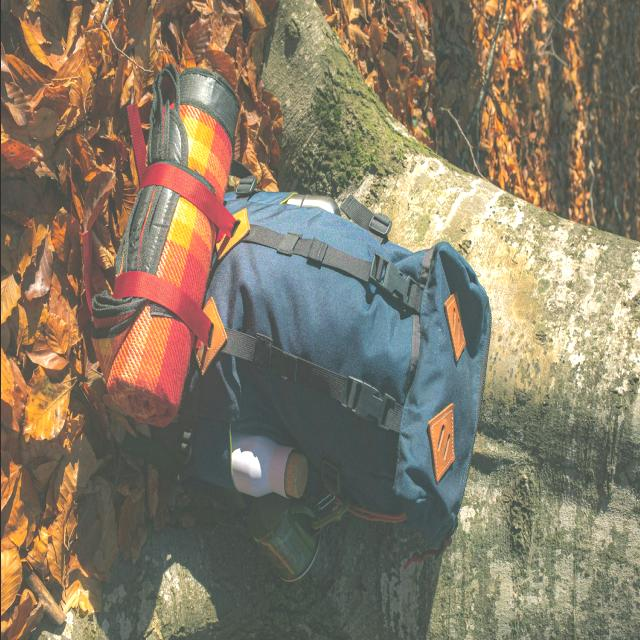backpack: (151, 186, 493, 582)
